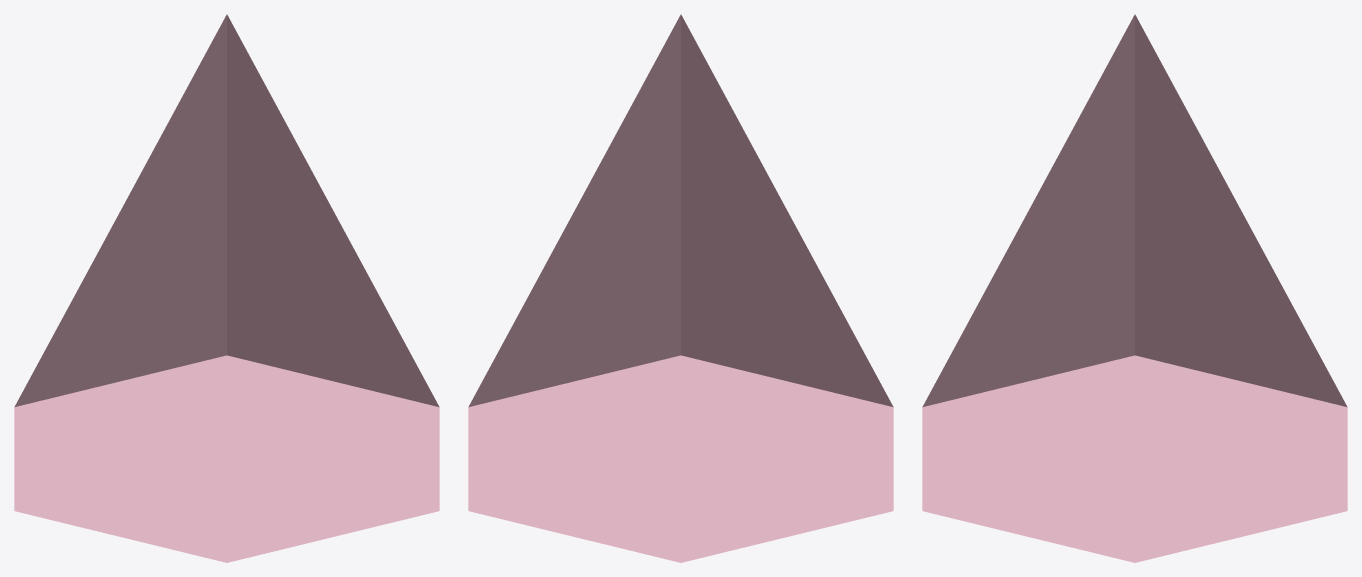
File: flower_pink_01.glb
3 views of the same model, side by side, from view 1: azimuth 30°, elevation 25°; view 2: azimuth 150°, elevation 25°; view 3: azimuth 270°, elevation 25° (orthographic).
Parts seen in each view (by area): view 1: 粉色花丛; view 2: 粉色花丛; view 3: 粉色花丛.
Part boxes in pixels (left/top/right/bottom): 粉色花丛: left=14, top=14, right=439, bottom=562; 粉色花丛: left=468, top=14, right=893, bottom=562; 粉色花丛: left=922, top=14, right=1347, bottom=562.
Bounding box in the file's own units: 1 × 1 × 0.866.
